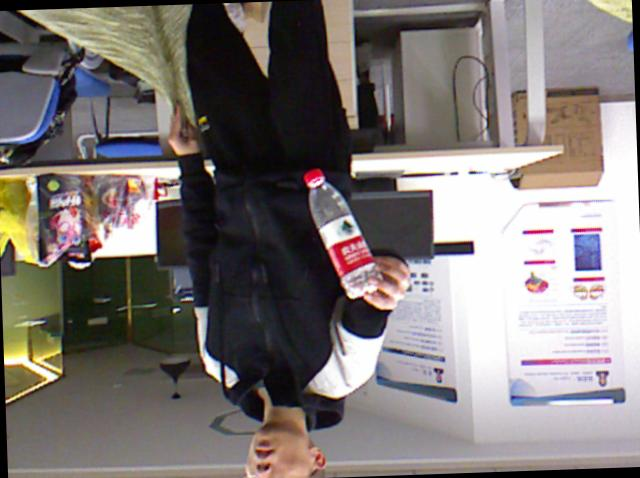plastic: (305, 170, 382, 297)
